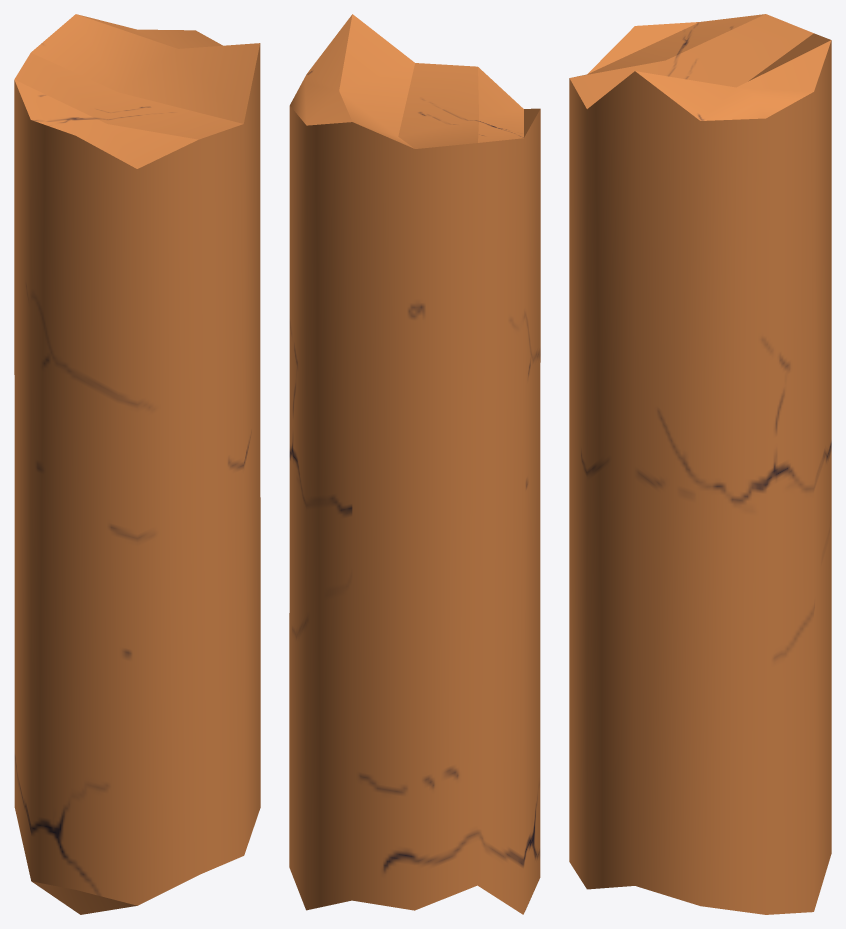
The model's file is BrokenPillar_Middle1.fbx.
3 renders of one model, left to right at view 1: azimuth 30°, elevation 25°; view 2: azimuth 150°, elevation 25°; view 3: azimuth 270°, elevation 25°, orthographic. The views are drawn at different scales.
Parts seen in each view (by area): view 1: Broken_Middle_1; view 2: Broken_Middle_1; view 3: Broken_Middle_1.
Part boxes in pixels (x1=…): Broken_Middle_1: x1=14, y1=14, x2=260, y2=914; Broken_Middle_1: x1=289, y1=14, x2=540, y2=914; Broken_Middle_1: x1=569, y1=14, x2=831, y2=914.
Size of the model in its own units: 200 by 200 by 748.
